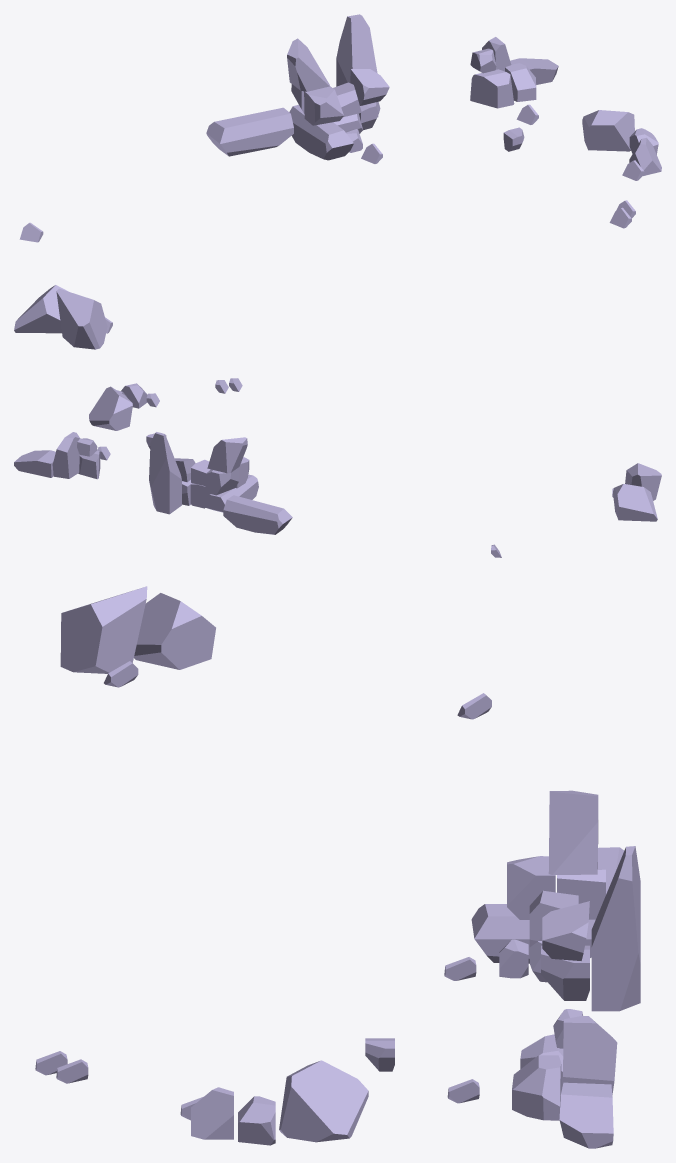
Rendered from rocks-bake.glb.
3 views of the same model, one above another, from view 1: azimuth 30°, elevation 25°; view 2: azimuth 150°, elevation 25°; view 3: azimuth 270°, elevation 25° (orthographic). The views are drawn at different scales.
Parts seen in each view (by area): view 1: Cube.171, Cube.031, Cube.043, Cube.001, Cube.036, Cube.002, Cube.039, Cube.075, Cube.037, Cube.042, Cube.074, Cube.004 (+4 smaller); view 2: Cube.043, Cube.171, Cube.002, Cube.001, Cube.039, Cube.076, Cube.079, Cube.036, Cube.031, Cube.038, Cube.075, Cube.004 (+4 smaller); view 3: Cube.043, Cube.001, Cube.031, Cube.002, Cube.039, Cube.076, Cube.079, Cube.074, Cube.036, Cube.042, Cube.037, Cube.004 (+7 smaller).
Boxes of the visible parts, x1,y1,x2,y2 form: Cube.171: (206, 107, 293, 156); Cube.031: (56, 288, 107, 349); Cube.043: (336, 14, 378, 116); Cube.001: (582, 110, 634, 151); Cube.036: (289, 104, 353, 160); Cube.002: (14, 285, 68, 333); Cube.039: (287, 38, 329, 91); Cube.075: (470, 69, 514, 108); Cube.037: (304, 86, 343, 125); Cube.042: (350, 69, 389, 105); Cube.074: (505, 63, 536, 101); Cube.004: (629, 137, 661, 175); Cube.043: (149, 432, 181, 514); Cube.171: (223, 495, 292, 534); Cube.002: (613, 484, 657, 521); Cube.001: (89, 386, 132, 430); Cube.039: (207, 437, 247, 473); Cube.076: (52, 432, 80, 478); Cube.079: (14, 450, 55, 477); Cube.036: (205, 474, 258, 512); Cube.031: (625, 463, 661, 500); Cube.038: (205, 467, 238, 495); Cube.075: (78, 449, 100, 479); Cube.004: (121, 383, 147, 408); Cube.043: (591, 846, 640, 1011); Cube.001: (279, 1060, 368, 1142); Cube.031: (60, 586, 147, 673); Cube.002: (134, 593, 215, 669); Cube.039: (548, 790, 598, 874); Cube.076: (563, 1016, 617, 1094); Cube.079: (559, 1082, 613, 1148); Cube.074: (512, 1055, 561, 1120); Cube.036: (471, 904, 595, 963); Cube.042: (542, 901, 589, 960); Cube.037: (507, 856, 555, 919); Cube.004: (191, 1087, 233, 1139).
Size of the model in its own units: 6.14 by 0.8567 by 3.
